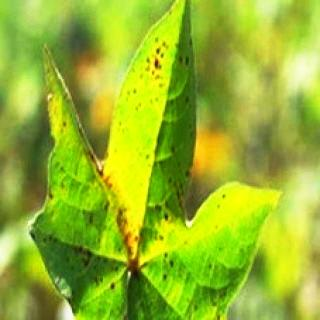leaf spot: (43, 26, 238, 318)
